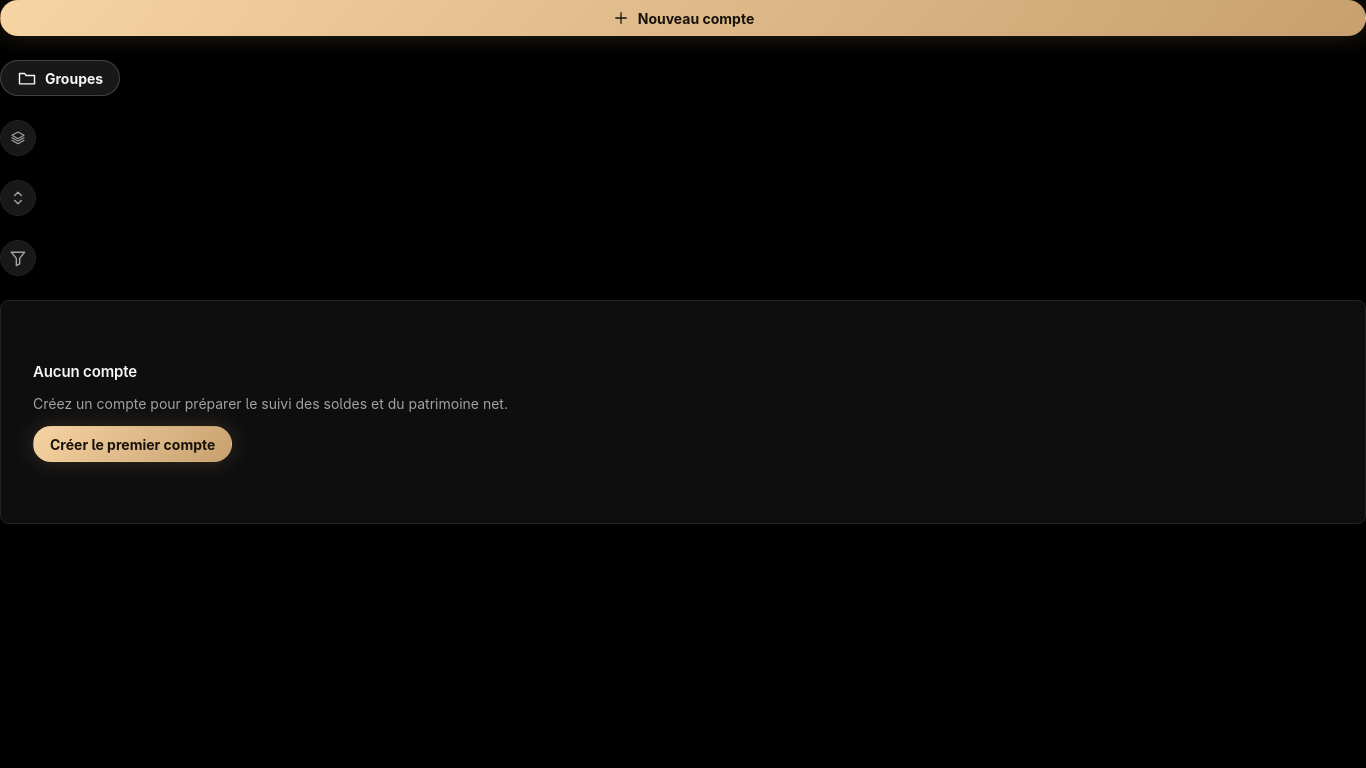
it: AccountsPage › refuses an included account without a primary group
Click the button "Créer le premier compte": (133, 444) [33,426,232,462]
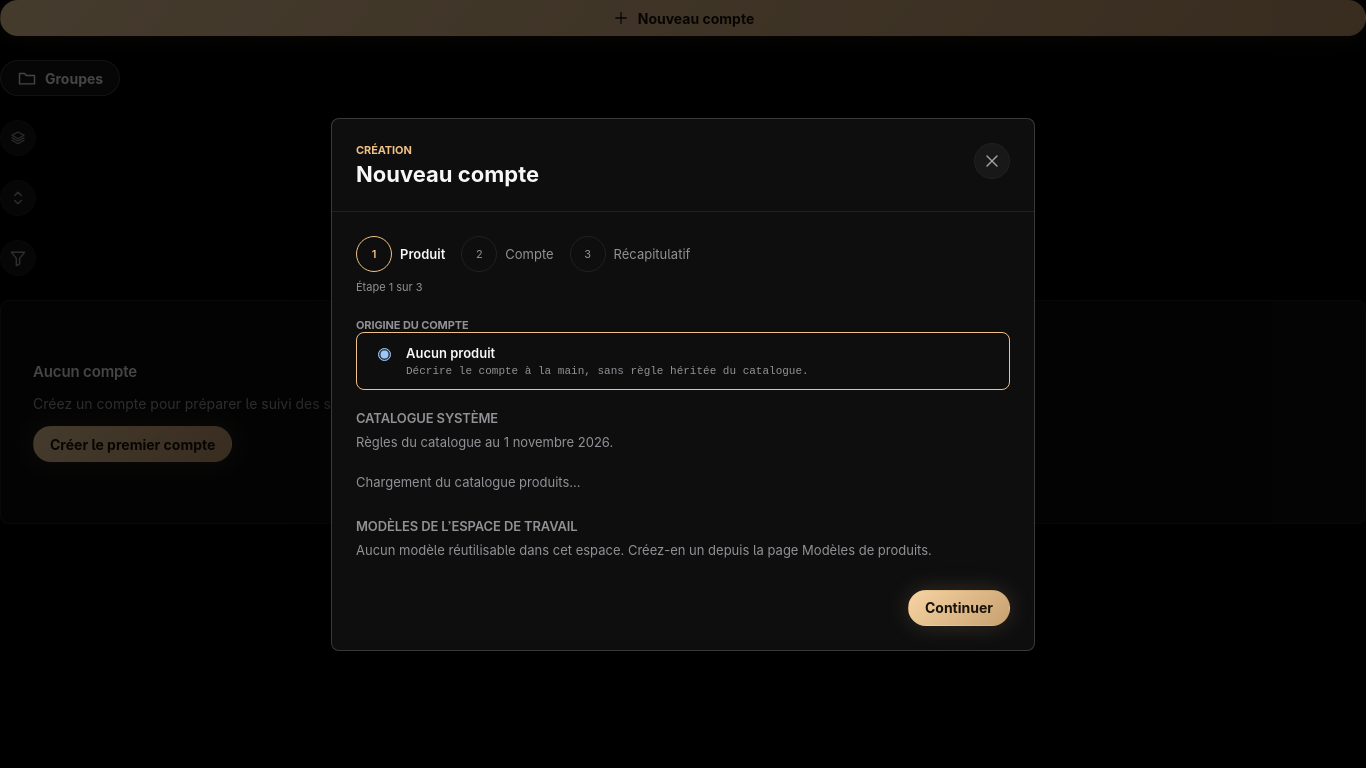
Click the button "Continuer": (959, 608) [908,590,1010,626]
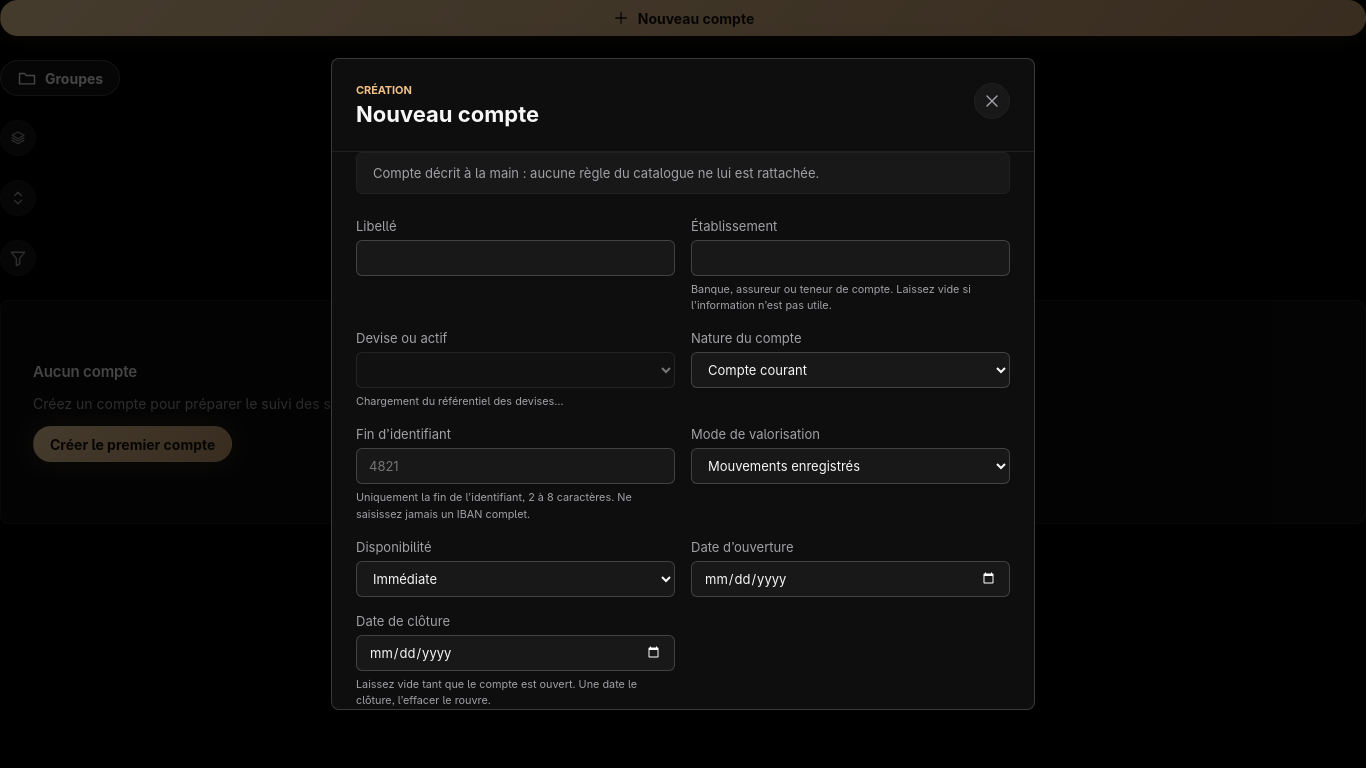
In the field labelled "Libellé": (516, 258) [356,240,675,276], type "Compte courant"
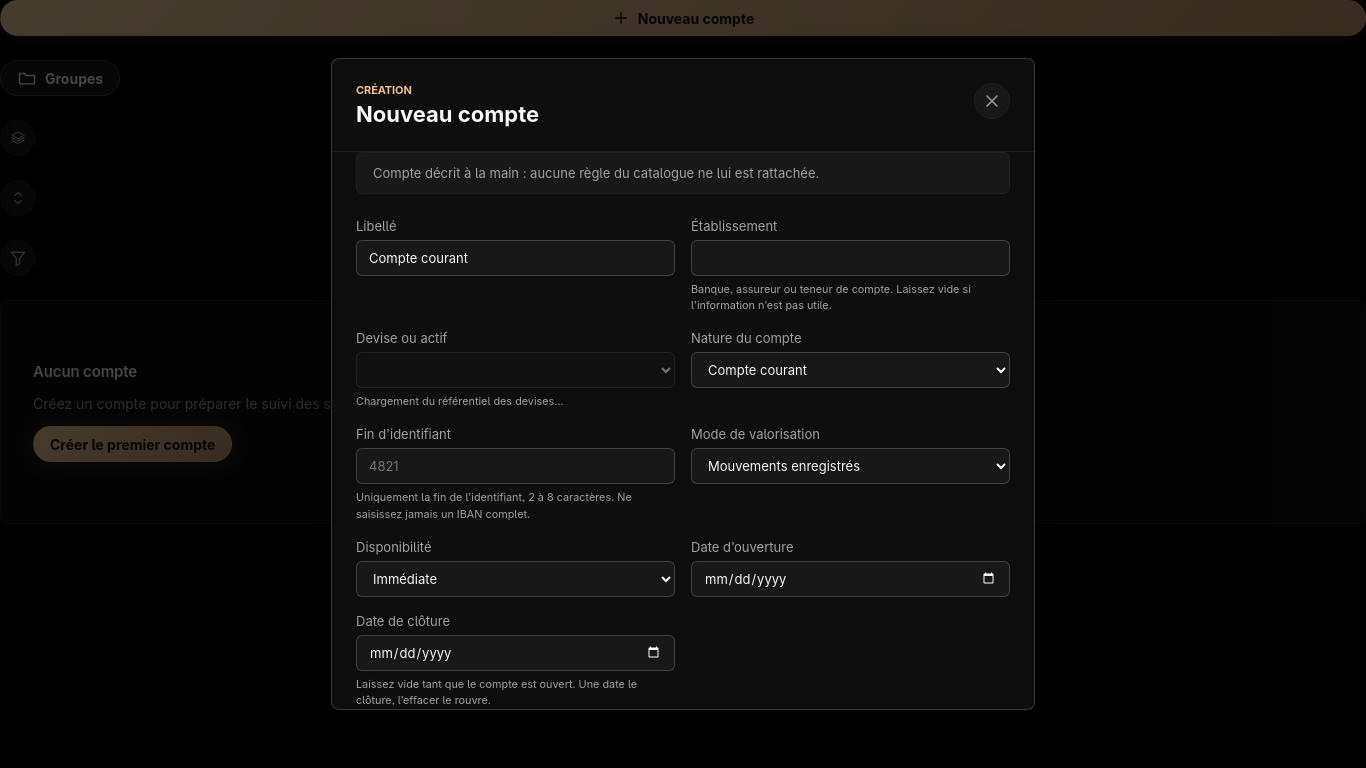
In the date field labelled "Date d’ouverture": (850, 579) [691,561,1010,597], type "2026-01-10"
(page scrolled)
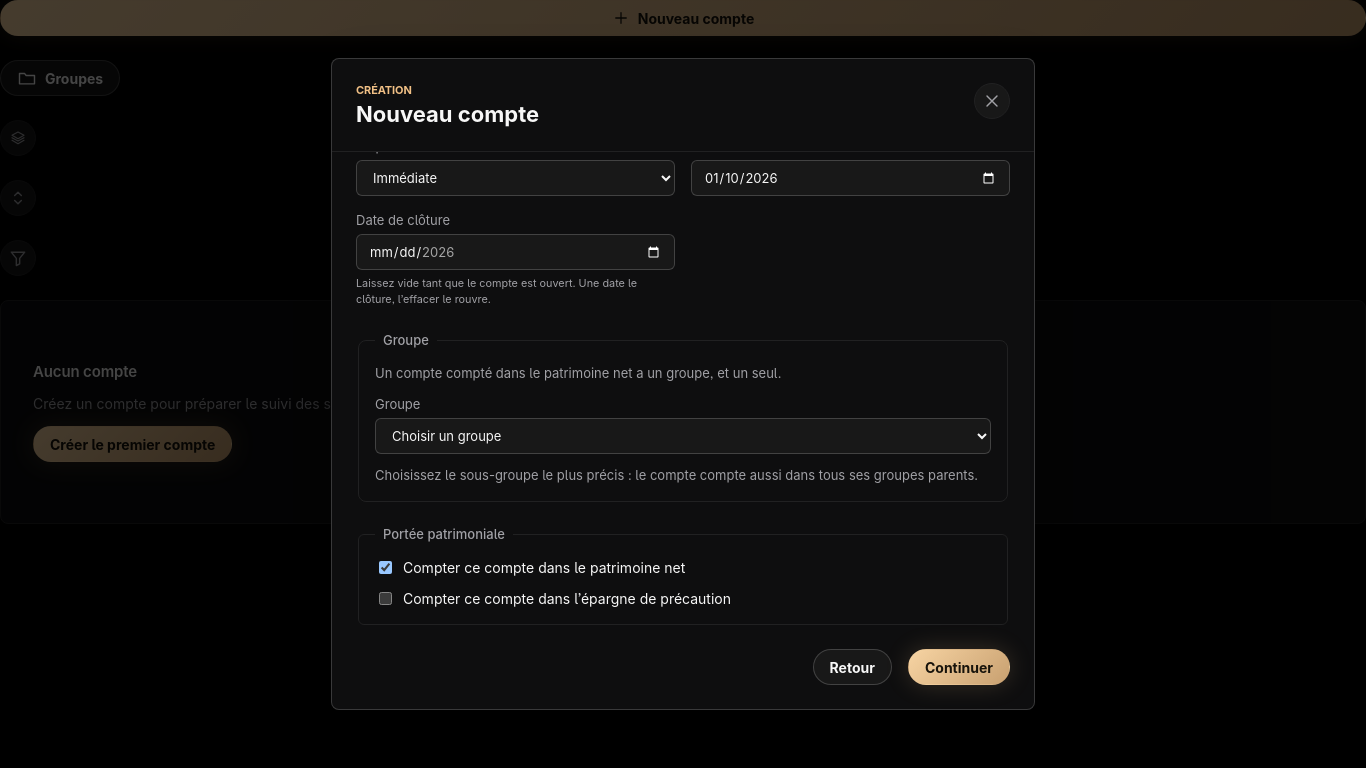
Click the button "Continuer": (959, 668) [908,650,1010,686]
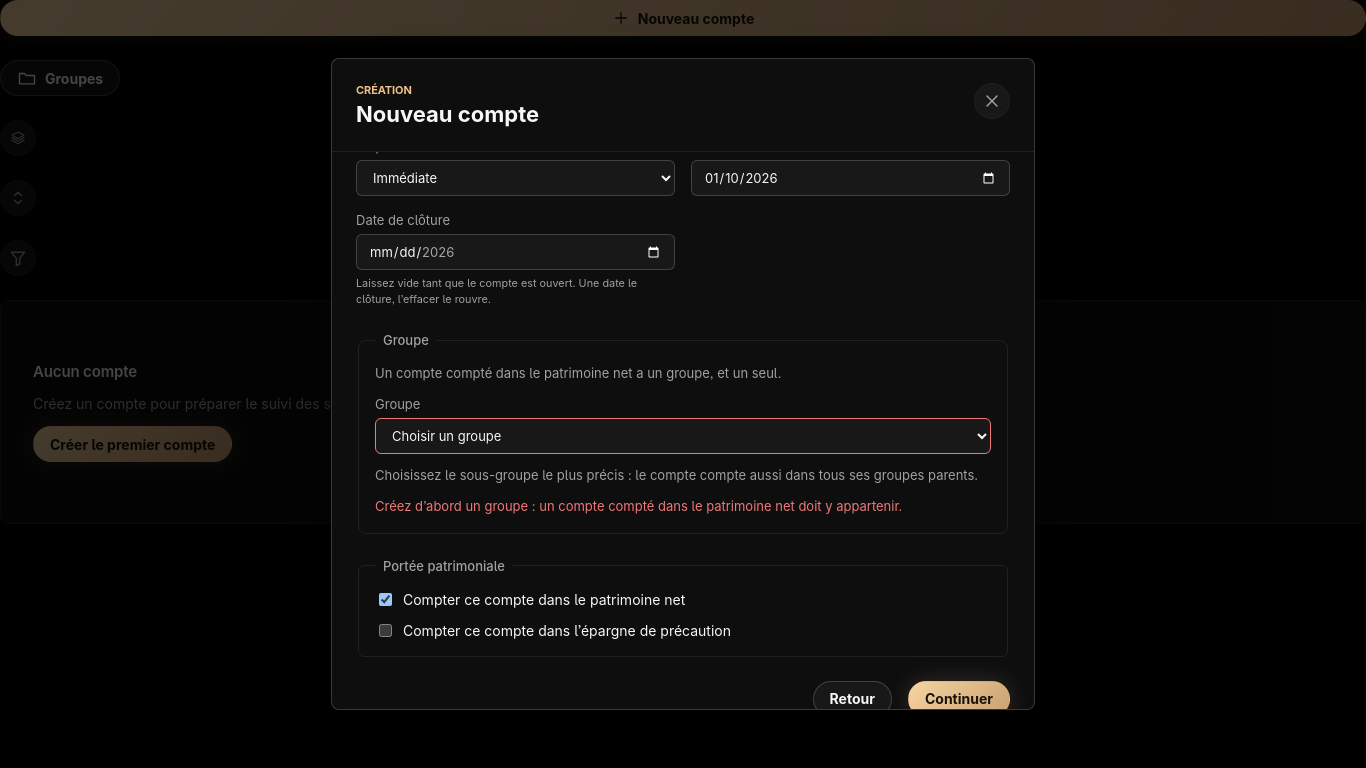
expect the text "Créez d’abord un groupe : un compte compté dans le patrimoine net doit y appartenir." is shown: met, box [375,498,902,514]
